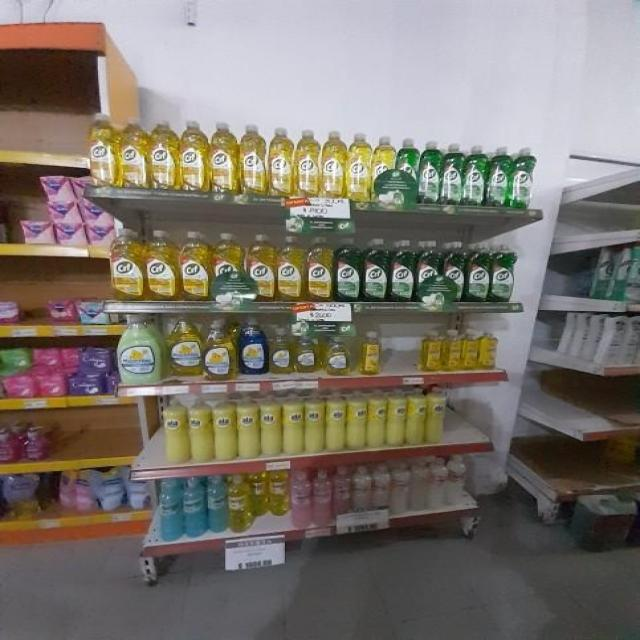ala_conc_amarillo: (268, 126, 294, 198), (295, 128, 320, 198), (322, 130, 346, 199)
ala_crem_amarillo: (160, 397, 187, 466), (188, 398, 212, 464), (213, 398, 236, 462), (282, 395, 304, 456), (260, 396, 281, 458), (238, 397, 258, 460), (428, 386, 448, 446), (304, 395, 324, 454), (325, 394, 345, 452), (346, 393, 366, 450)
cif_conc_bot_amarilla: (109, 228, 143, 302), (145, 229, 177, 302), (87, 112, 118, 187), (212, 232, 245, 302), (179, 230, 211, 302), (148, 119, 178, 191), (179, 119, 208, 193), (210, 121, 238, 195), (119, 117, 147, 189), (276, 234, 304, 303), (247, 233, 275, 302), (240, 123, 266, 196), (306, 236, 334, 303), (346, 132, 372, 202), (372, 135, 395, 204)
cif_conc_botella_verde: (335, 237, 362, 302), (390, 239, 416, 303), (363, 238, 388, 302), (417, 240, 442, 304), (396, 137, 418, 206), (492, 241, 516, 303), (419, 140, 441, 206), (467, 241, 490, 303), (488, 145, 510, 209), (464, 144, 486, 207), (443, 241, 465, 303), (442, 143, 463, 206)
magistral_con_amarillo: (165, 316, 202, 380), (204, 319, 236, 381), (294, 327, 322, 376), (323, 334, 354, 377), (268, 327, 292, 375)
magistral_con_azul: (238, 319, 266, 377)
magistral_con_crema: (116, 314, 162, 386)
